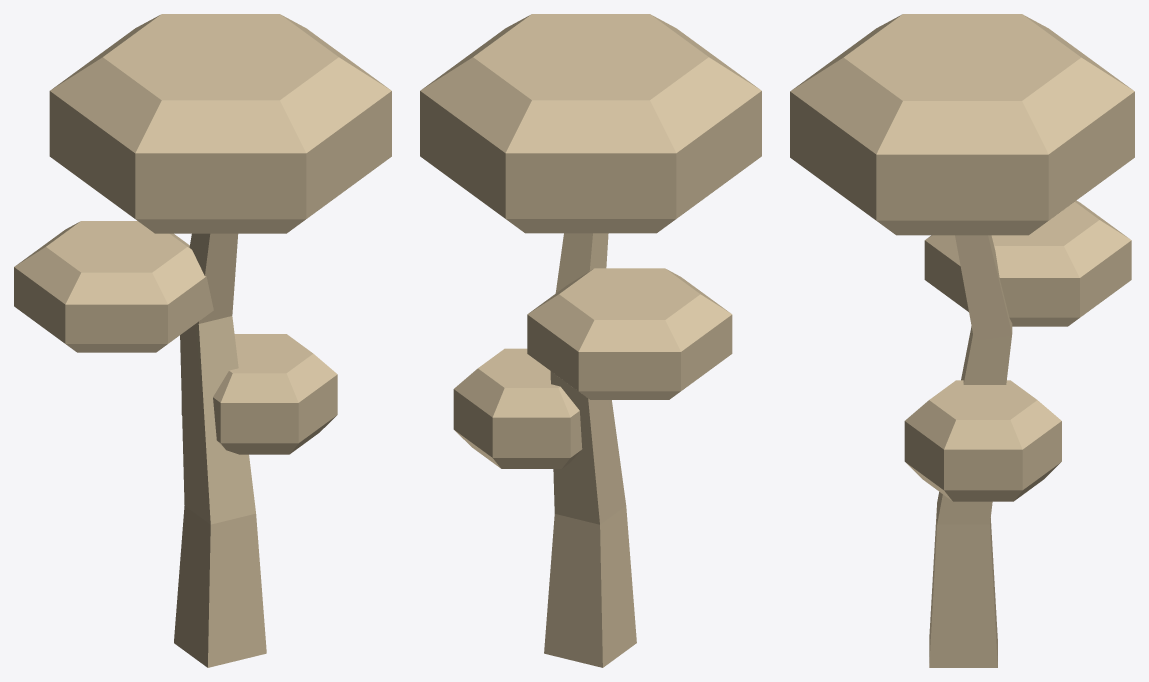
The model's file is naturePack_073.fbx.
3 renders of one model, left to right at view 1: azimuth 30°, elevation 25°; view 2: azimuth 150°, elevation 25°; view 3: azimuth 270°, elevation 25°, orthographic.
Visible parts, largest first — view 1: naturePack_073; view 2: naturePack_073; view 3: naturePack_073.
Part boxes in pixels (left/top/right/bottom): naturePack_073: left=14, top=14, right=391, bottom=667; naturePack_073: left=420, top=14, right=761, bottom=667; naturePack_073: left=790, top=14, right=1134, bottom=667.
Bounding box in the file's own units: 245 × 500 × 262.
